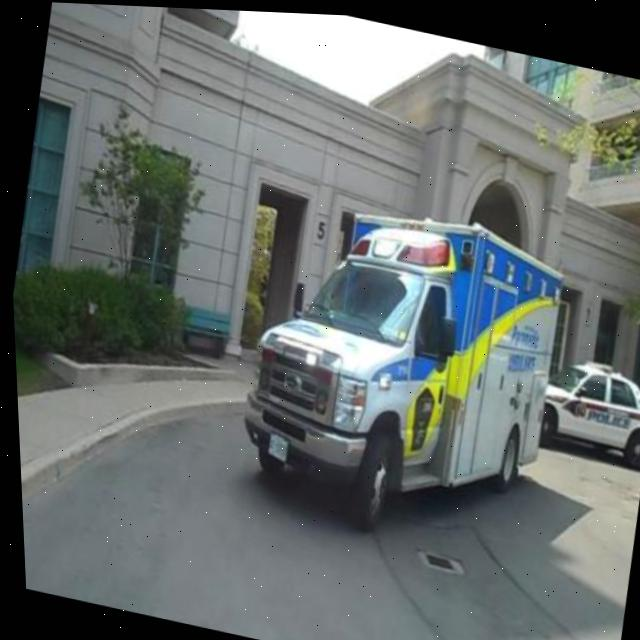emergency: (210, 166, 582, 560), (523, 339, 640, 470)
